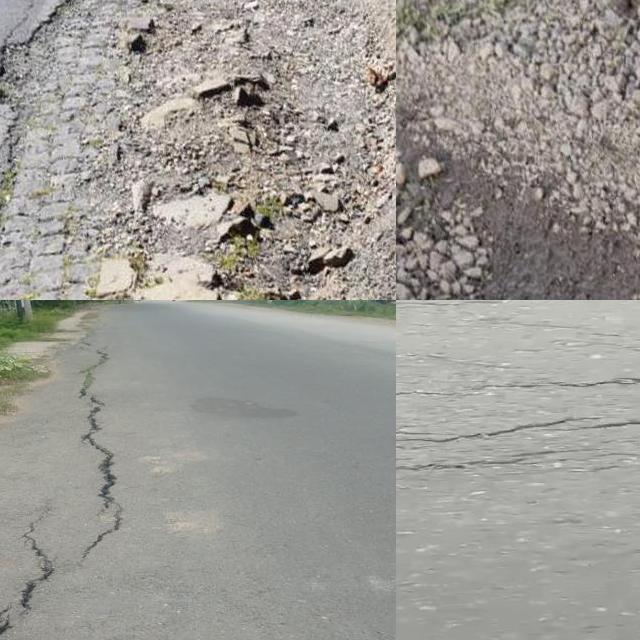Melintang: (396, 442, 640, 481)
Memanjang: (0, 341, 139, 640)
Pinggir: (396, 107, 640, 300), (0, 0, 137, 300)
